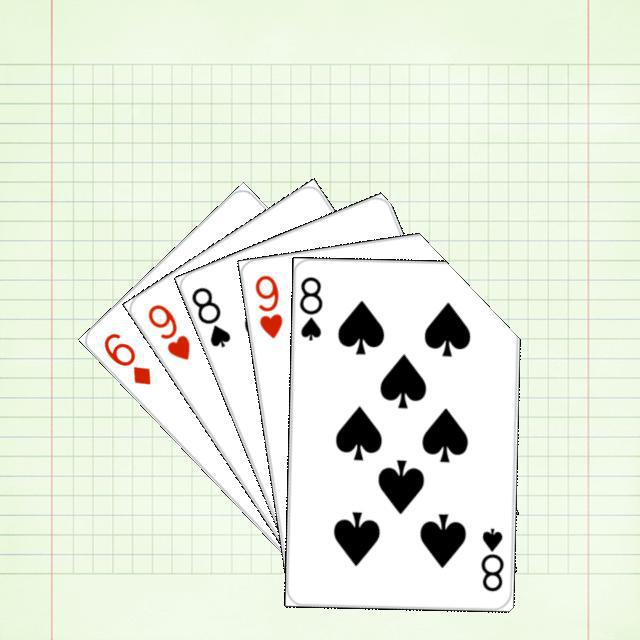6d: (98, 328, 153, 387)
8s: (186, 281, 233, 349), (476, 522, 506, 594), (295, 272, 324, 342)
9h: (142, 299, 192, 363), (250, 270, 284, 341)
